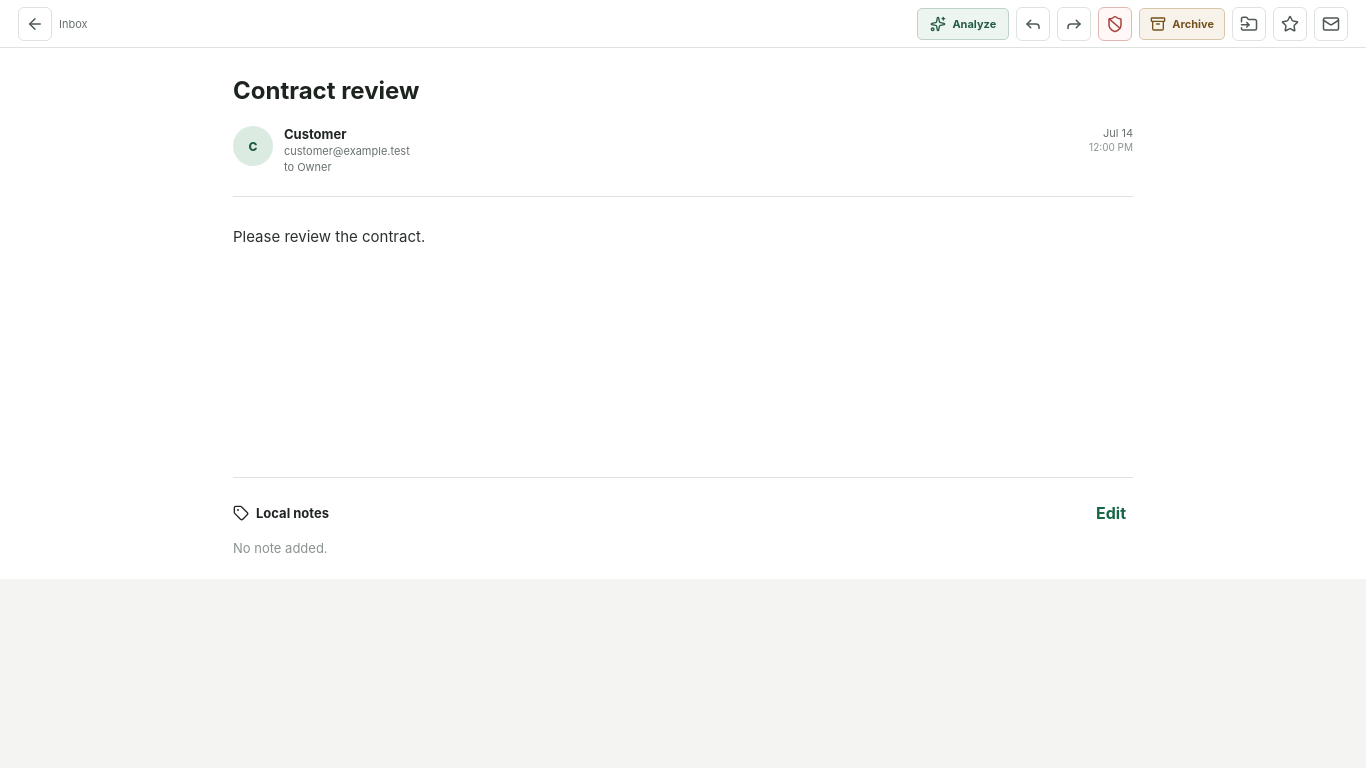
MessageReader AI analysis › shows configuration errors next to the message
Click the button "Analyze" at (963, 24), box [917,8,1009,40]
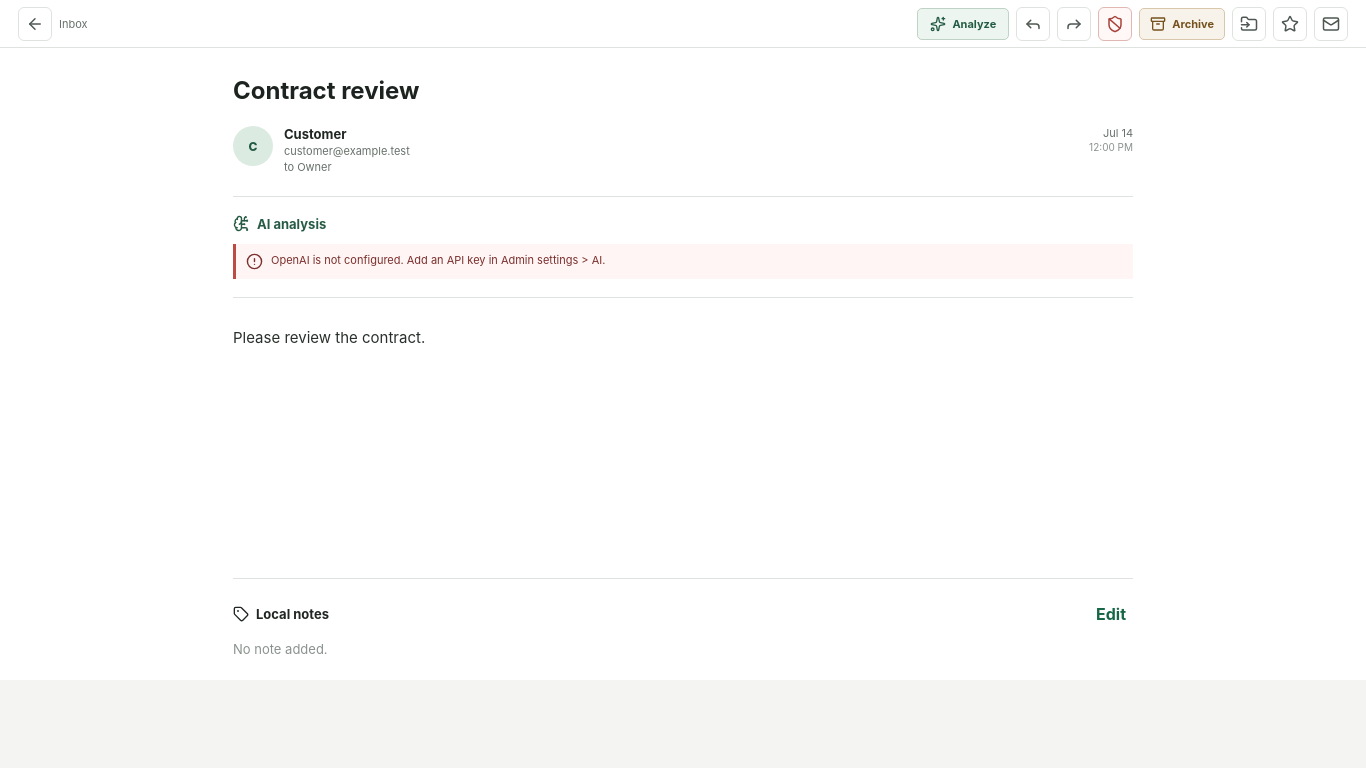
Now the text "OpenAI is not configured" is shown, box [271,253,605,267]
